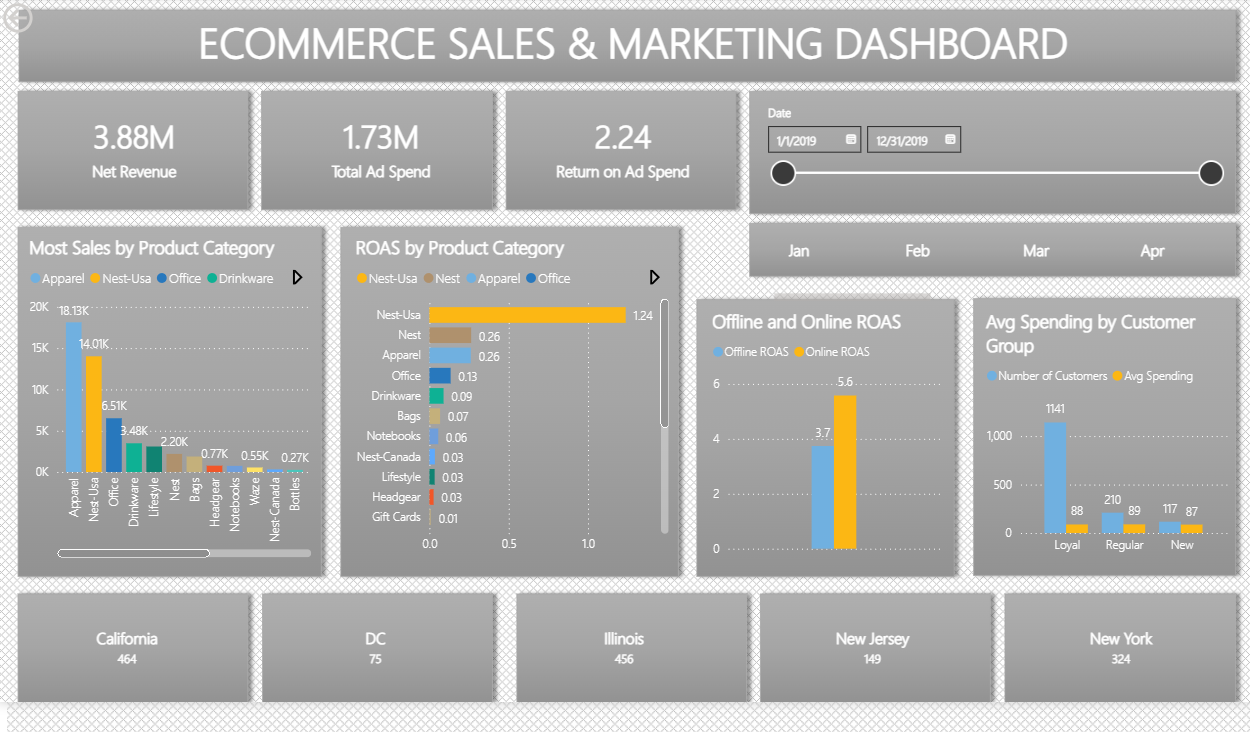

The dashboard page shown, as its layout file describes it:
{"tool":"powerbi","page":{"name":"Page 1","canvas":[1280,720],"ordinal":0},"visuals":[{"type":"columnChart","title":"Most Sales by Product Category","fields":{"Category":["online_sales.Product_Category"],"Y":["CountNonNull(online_sales.sales)"],"Series":["online_sales.Product_Category"]},"box":[27,241.7,298,335.6],"z":0},{"type":"actionButton","box":[0,0,100,40],"z":1000},{"type":"advancedSlicerVisual","fields":{"Label":["CountNonNull(customersdata.CustomerID)"],"Values":["customersdata.State"]},"box":[0,606.6,1280.1,113.8],"z":2000},{"type":"textbox","box":[18.7,9.4,1261.4,82],"z":3000},{"type":"advancedSlicerVisual","fields":{"Values":["Calendar.Month"]},"box":[788.5,212.4,491.6,105.6],"z":4000},{"type":"card","fields":{"Values":["marketing_spend.Total Ad Spend"]},"box":[272.7,91.7,237,120.3],"z":5000},{"type":"card","fields":{"Values":["online_sales.Net Revenue"]},"box":[18.8,91.5,240.5,120.9],"z":6000},{"type":"card","fields":{"Values":["online_sales.ROAS"]},"box":[522.1,91.5,232.3,120.9],"z":7000},{"type":"barChart","title":"ROAS by Product Category","fields":{"Category":["online_sales.Product_Category"],"Y":["online_sales.Category ROAS"],"Series":["online_sales.Product_Category"]},"box":[360.2,241.7,329.7,335.6],"z":8000},{"type":"lineClusteredColumnComboChart","title":"Offline and  Online ROAS","fields":{"Y":["online_sales.Offline ROAS","online_sales.Online ROAS"]},"box":[725.1,318,244.1,259.3],"z":9000},{"type":"clusteredColumnChart","title":"Avg Spending by Customer Group","fields":{"Category":["customersdata.Customer Groups"],"Y":["Count(online_sales.CustomerID)","Avg(online_sales.sales)"]},"box":[1004.4,318,257,259.3],"z":10000},{"type":"slicer","fields":{"Values":["Calendar.Date"]},"box":[774.4,103.3,486.9,109.1],"z":11000}]}

Visuals, with their boxes in screenshot pixels (x1, y1, x2, y2):
"Most Sales by Product Category" columnChart: locate(17, 238, 315, 573)
actionButton: locate(0, 0, 90, 37)
advancedSlicerVisual - CountNonNull(customersdata.CustomerID) x customersdata.State: locate(0, 602, 1249, 716)
textbox: locate(9, 6, 1249, 88)
advancedSlicerVisual - Calendar.Month: locate(778, 209, 1249, 314)
card - marketing_spend.Total Ad Spend: locate(263, 88, 499, 208)
card - online_sales.Net Revenue: locate(9, 88, 249, 209)
card - online_sales.ROAS: locate(512, 88, 743, 209)
"ROAS by Product Category" barChart: locate(350, 238, 679, 573)
"Offline and  Online ROAS" lineClusteredColumnComboChart: locate(714, 314, 958, 573)
"Avg Spending by Customer Group" clusteredColumnChart: locate(993, 314, 1249, 573)
slicer - Calendar.Date: locate(763, 100, 1249, 209)
